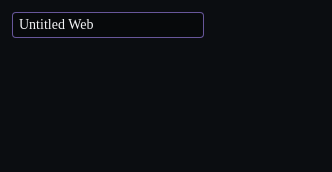
Test case: committing › saves on Enter
Earlier steps of the test are not shown.
Replace the text in the field with test id "web-title-input" with "Mark 3:29" at (108, 25), box [12,12,204,38]
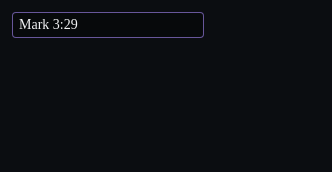
Press Enter in the field with test id "web-title-input", box [12,12,204,38]
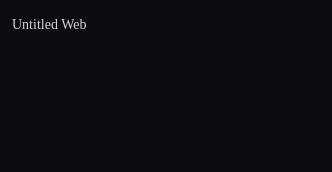
Check: the field with test id "web-title-input" is gone
